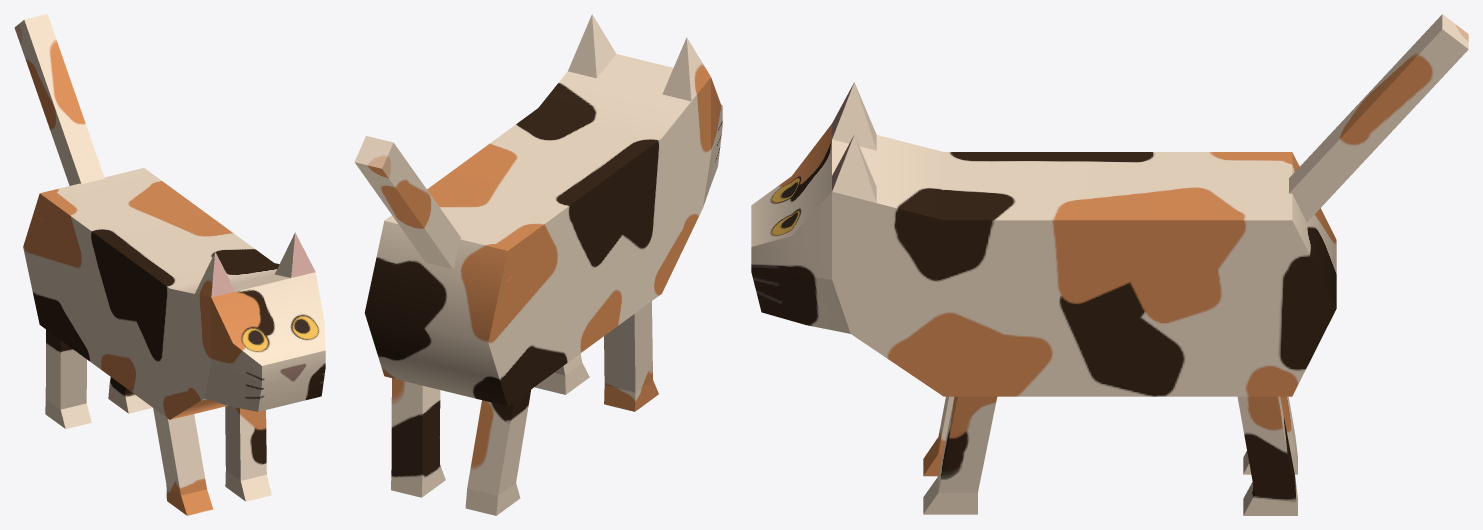
File: cat.fbx
The picture shows the model from 3 angles, left to right: view 1: azimuth 30°, elevation 25°; view 2: azimuth 150°, elevation 25°; view 3: azimuth 270°, elevation 25°; orthographic projection. The views are drawn at different scales.
Parts seen in each view (by area): view 1: Cat; view 2: Cat; view 3: Cat.
Part boxes in pixels (box(x1,y1,x2,y2)): Cat: box(14, 14, 325, 515); Cat: box(354, 14, 722, 515); Cat: box(751, 14, 1468, 515).
Size of the model in its own units: 0.2773 by 0.8798 by 1.23.
